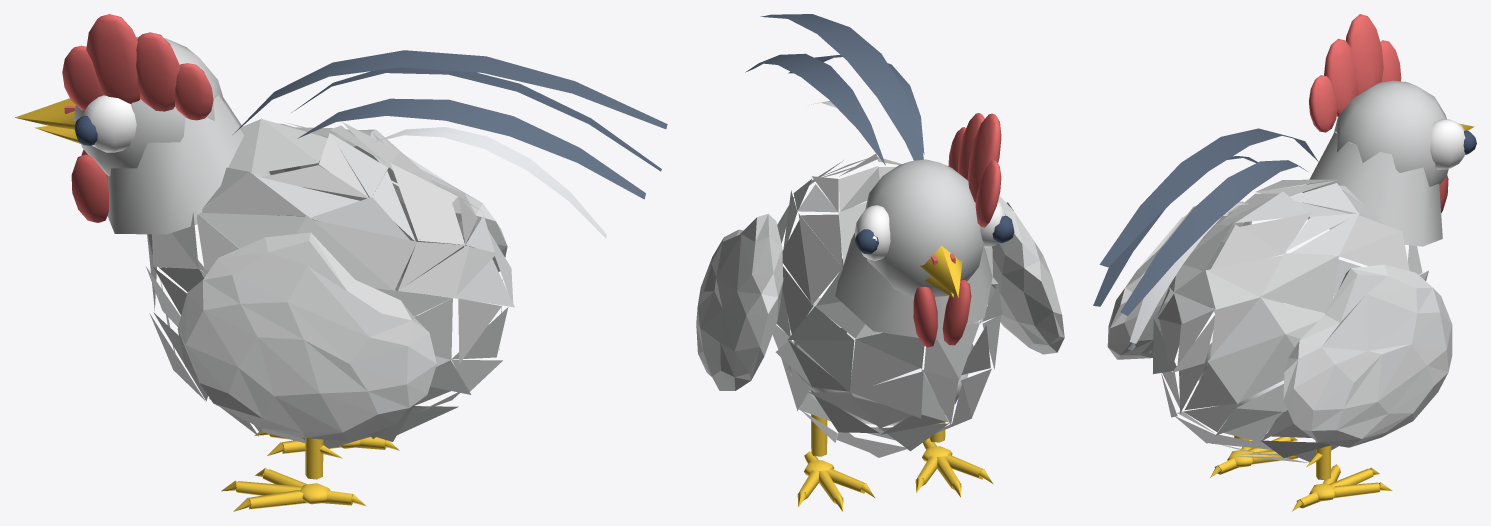
File: south_indian_village_comedic_chicken.glb
3 renders of one model, left to right at view 1: azimuth 30°, elevation 25°; view 2: azimuth 150°, elevation 25°; view 3: azimuth 270°, elevation 25°, orthographic. The views are drawn at different scales.
Visible parts, largest first — view 1: object 1, Right_Wing_Pivot, Chicken_Head_Assembly, Rooster_Tail_Plumes, Chicken_Floppy_Comb, Foot_Claws (×2), Left_Wing_Pivot, Chicken_Wobbly_Wattles, object 15; view 2: object 1, Chicken_Head_Assembly, Left_Wing_Pivot, Rooster_Tail_Plumes, Right_Wing_Pivot, Chicken_Floppy_Comb, Foot_Claws (×2), Chicken_Wobbly_Wattles, object 2, object 10; view 3: object 1, Left_Wing_Pivot, Chicken_Head_Assembly, Rooster_Tail_Plumes, Chicken_Floppy_Comb, Right_Wing_Pivot, Foot_Claws (×2), object 10.
Boxes of the visible parts, x1=… form: object 1: x1=146, y1=118, x2=514, y2=448; Right_Wing_Pivot: x1=177, y1=232, x2=436, y2=441; Chicken_Head_Assembly: x1=15, y1=37, x2=270, y2=234; Rooster_Tail_Plumes: x1=233, y1=50, x2=667, y2=238; Chicken_Floppy_Comb: x1=62, y1=14, x2=213, y2=120; Foot_Claws (×2): x1=221, y1=432, x2=399, y2=511; Left_Wing_Pivot: x1=269, y1=128, x2=507, y2=296; Chicken_Wobbly_Wattles: x1=71, y1=149, x2=108, y2=222; object 15: x1=305, y1=438, x2=323, y2=479; object 1: x1=772, y1=153, x2=1002, y2=457; Chicken_Head_Assembly: x1=835, y1=159, x2=1014, y2=339; Left_Wing_Pivot: x1=696, y1=213, x2=783, y2=390; Rooster_Tail_Plumes: x1=745, y1=14, x2=924, y2=165; Right_Wing_Pivot: x1=987, y1=196, x2=1064, y2=354; Chicken_Floppy_Comb: x1=948, y1=113, x2=1001, y2=227; Foot_Claws (×2): x1=797, y1=438, x2=993, y2=511; Chicken_Wobbly_Wattles: x1=913, y1=280, x2=971, y2=347; object 2: x1=788, y1=332, x2=973, y2=425; object 10: x1=811, y1=414, x2=827, y2=456; object 1: x1=1153, y1=179, x2=1428, y2=462; Left_Wing_Pivot: x1=1283, y1=264, x2=1452, y2=447; Chicken_Head_Assembly: x1=1302, y1=80, x2=1476, y2=246; Rooster_Tail_Plumes: x1=1093, y1=128, x2=1318, y2=343; Chicken_Floppy_Comb: x1=1309, y1=14, x2=1401, y2=132; Right_Wing_Pivot: x1=1107, y1=201, x2=1251, y2=359; Foot_Claws (×2): x1=1210, y1=437, x2=1392, y2=511; object 10: x1=1315, y1=441, x2=1331, y2=480.
Size of the model in its own units: 0.9034 by 0.9175 by 0.805.
